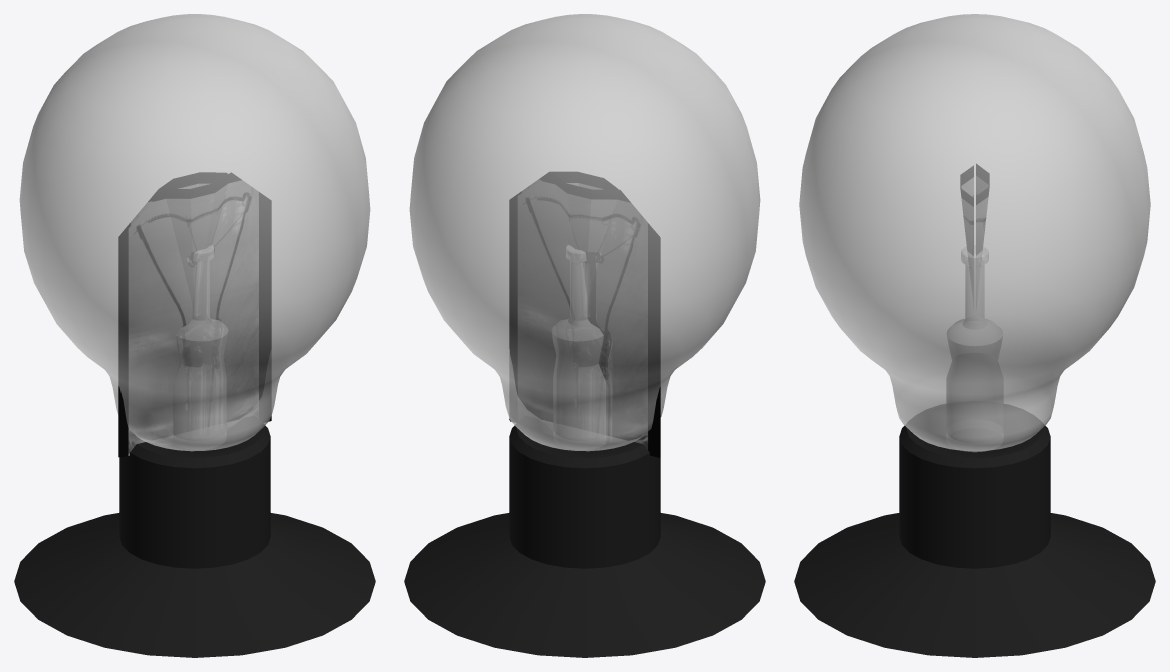
Rendered from Stick Out Lightbulb.fbx.
3 views of the same model, side by side, from view 1: azimuth 30°, elevation 25°; view 2: azimuth 150°, elevation 25°; view 3: azimuth 270°, elevation 25° (orthographic).
Visible parts, largest first — view 1: Bulb; view 2: Bulb; view 3: Bulb.
Part boxes in pixels (x1,y1,x2,y2): Bulb: (14, 14, 375, 657); Bulb: (404, 14, 765, 657); Bulb: (794, 14, 1155, 657).
Bounding box in the file's own units: 23.18 × 38.99 × 23.18.
